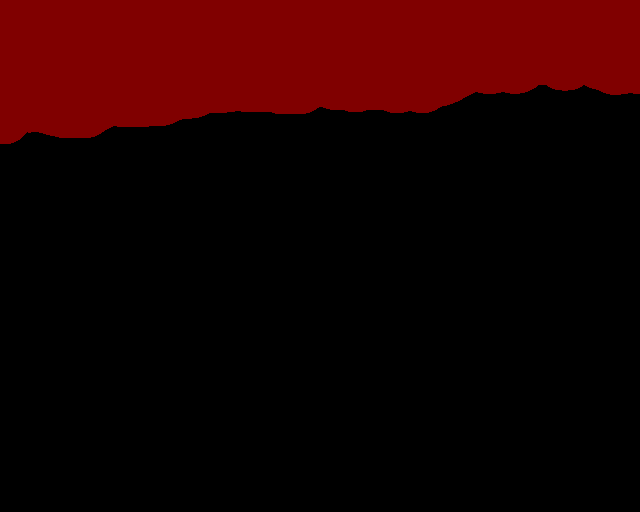Sky: (1, 1, 639, 144)
